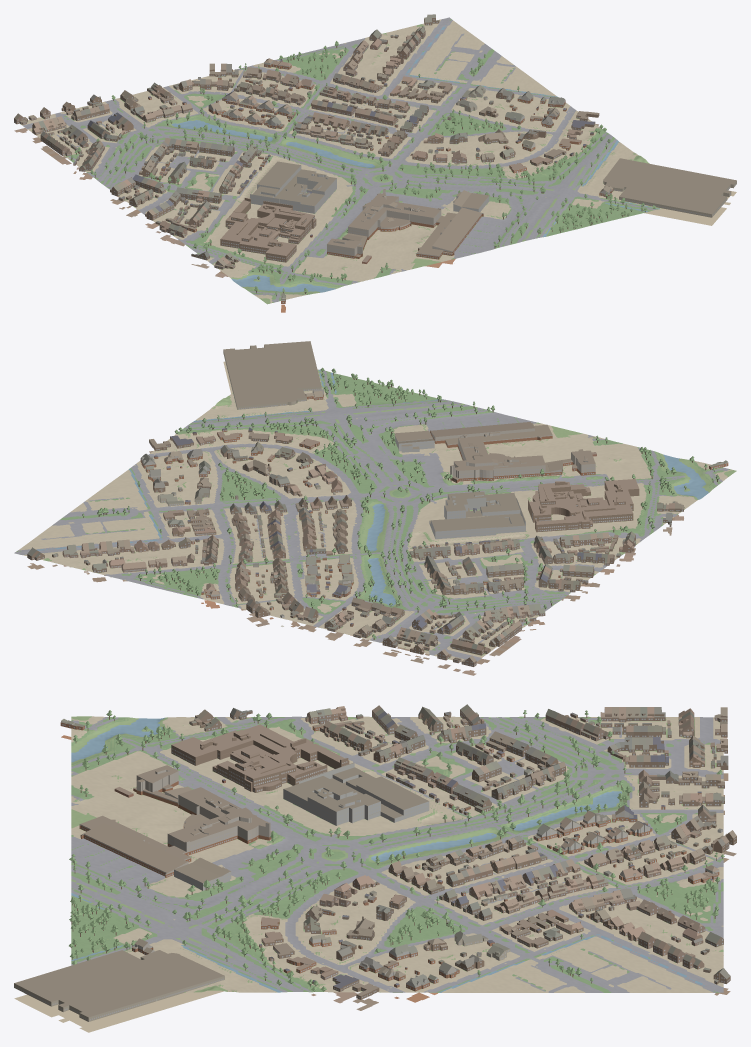
File: bosven-veghel_x334_y807.glb
3 renders of one model, top to bottom at view 1: azimuth 30°, elevation 25°; view 2: azimuth 150°, elevation 25°; view 3: azimuth 270°, elevation 25°, orthographic. The views are drawn at different scales.
Parts seen in each view (by area): view 1: class:sand, class:roof, class:road, class:wall, class:green, class:tree, class:grass, class:trim, class:water, class:trunk; view 2: class:sand, class:roof, class:road, class:wall, class:green, class:tree, class:grass, class:trim, class:water, class:trunk; view 3: class:roof, class:sand, class:road, class:wall, class:green, class:tree, class:trim, class:grass, class:water, class:trunk.
Boxes of the visible parts, box(x1,y1,x2,y2) form: class:sand: box(22, 19, 661, 303); class:roof: box(14, 14, 736, 299); class:road: box(23, 17, 656, 302); class:wall: box(14, 18, 736, 312); class:green: box(63, 19, 658, 302); class:tree: box(71, 41, 656, 294); class:grass: box(20, 23, 662, 304); class:trim: box(14, 19, 736, 302); class:water: box(171, 25, 659, 292); class:trunk: box(71, 46, 645, 296); class:sand: box(18, 369, 732, 662); class:roof: box(27, 341, 727, 662); class:road: box(14, 370, 728, 661); class:wall: box(27, 346, 728, 675); class:green: box(16, 370, 730, 650); class:tree: box(82, 367, 719, 638); class:grass: box(41, 370, 736, 659); class:trim: box(28, 352, 726, 665); class:water: box(37, 369, 708, 605); class:trunk: box(83, 371, 717, 639); class:roof: box(14, 704, 736, 1017); class:sand: box(71, 716, 723, 992); class:road: box(71, 716, 723, 992); class:wall: box(14, 707, 736, 1032); class:green: box(71, 716, 723, 992); class:tree: box(69, 710, 724, 991); class:trim: box(14, 711, 736, 1020); class:grass: box(71, 716, 723, 992); class:water: box(71, 717, 704, 992); class:trunk: box(71, 715, 722, 991).
Bounding box in the file's own units: 561 × 24.71 × 554.
